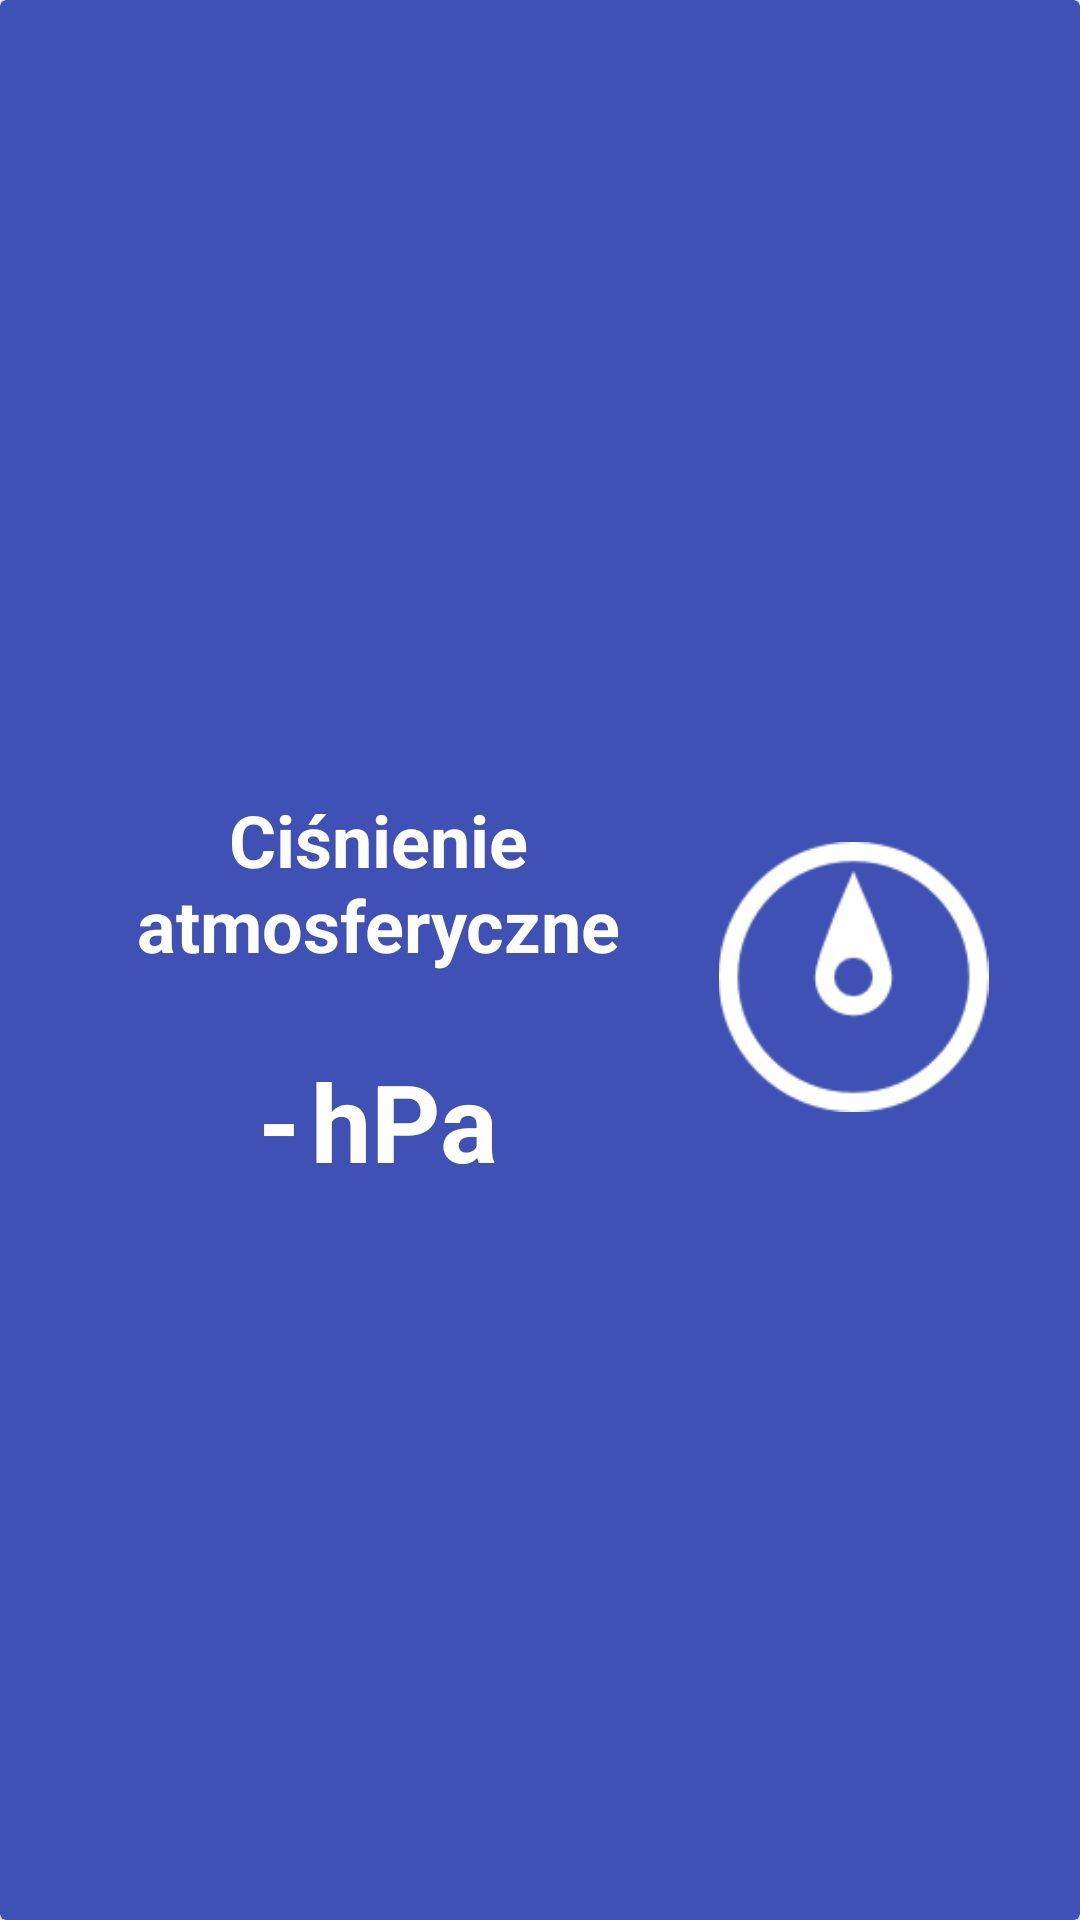

Named icons in this screenshot (1080px x 1920px) and their centers, (x,y):
pressure: (854,977)
